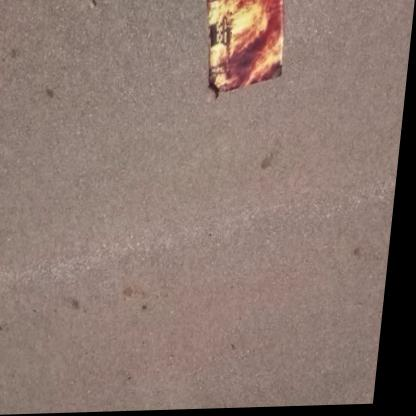fire-poster: (196, 0, 292, 104)
